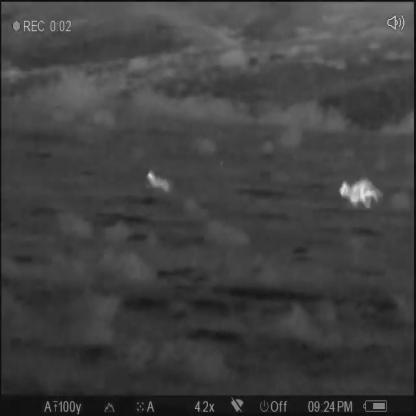rehkitze: (339, 179, 384, 210), (146, 171, 169, 196)
